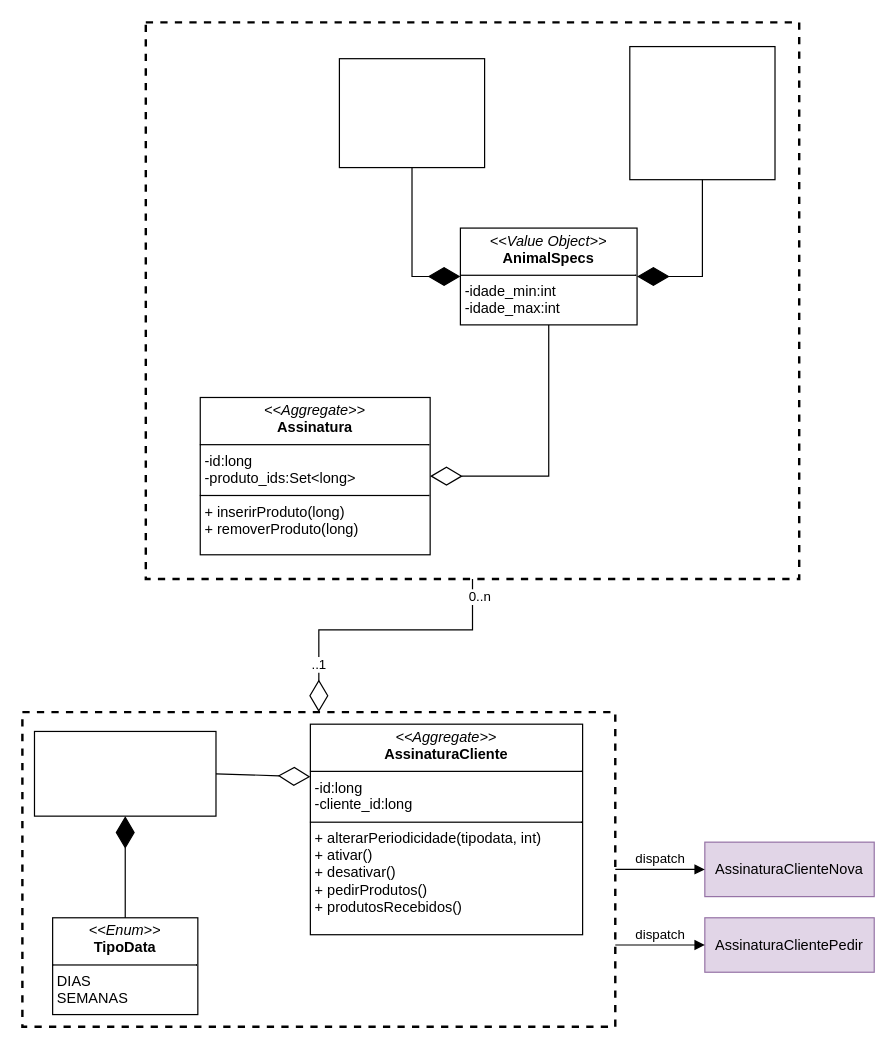
This 895x1048 diagram has some shape labels left out. Each missing label, with the centre of its shape:
"<<Enum>> Especie CACHORRO GATO AVE HAMSTER" goes at point (702, 112).
"<<Enum>> Porte PEQUENO MÉDIO GRANDE" goes at point (411, 112).
"<<Value Object>> Periodicidade -intervalo:int" goes at point (124, 773).
